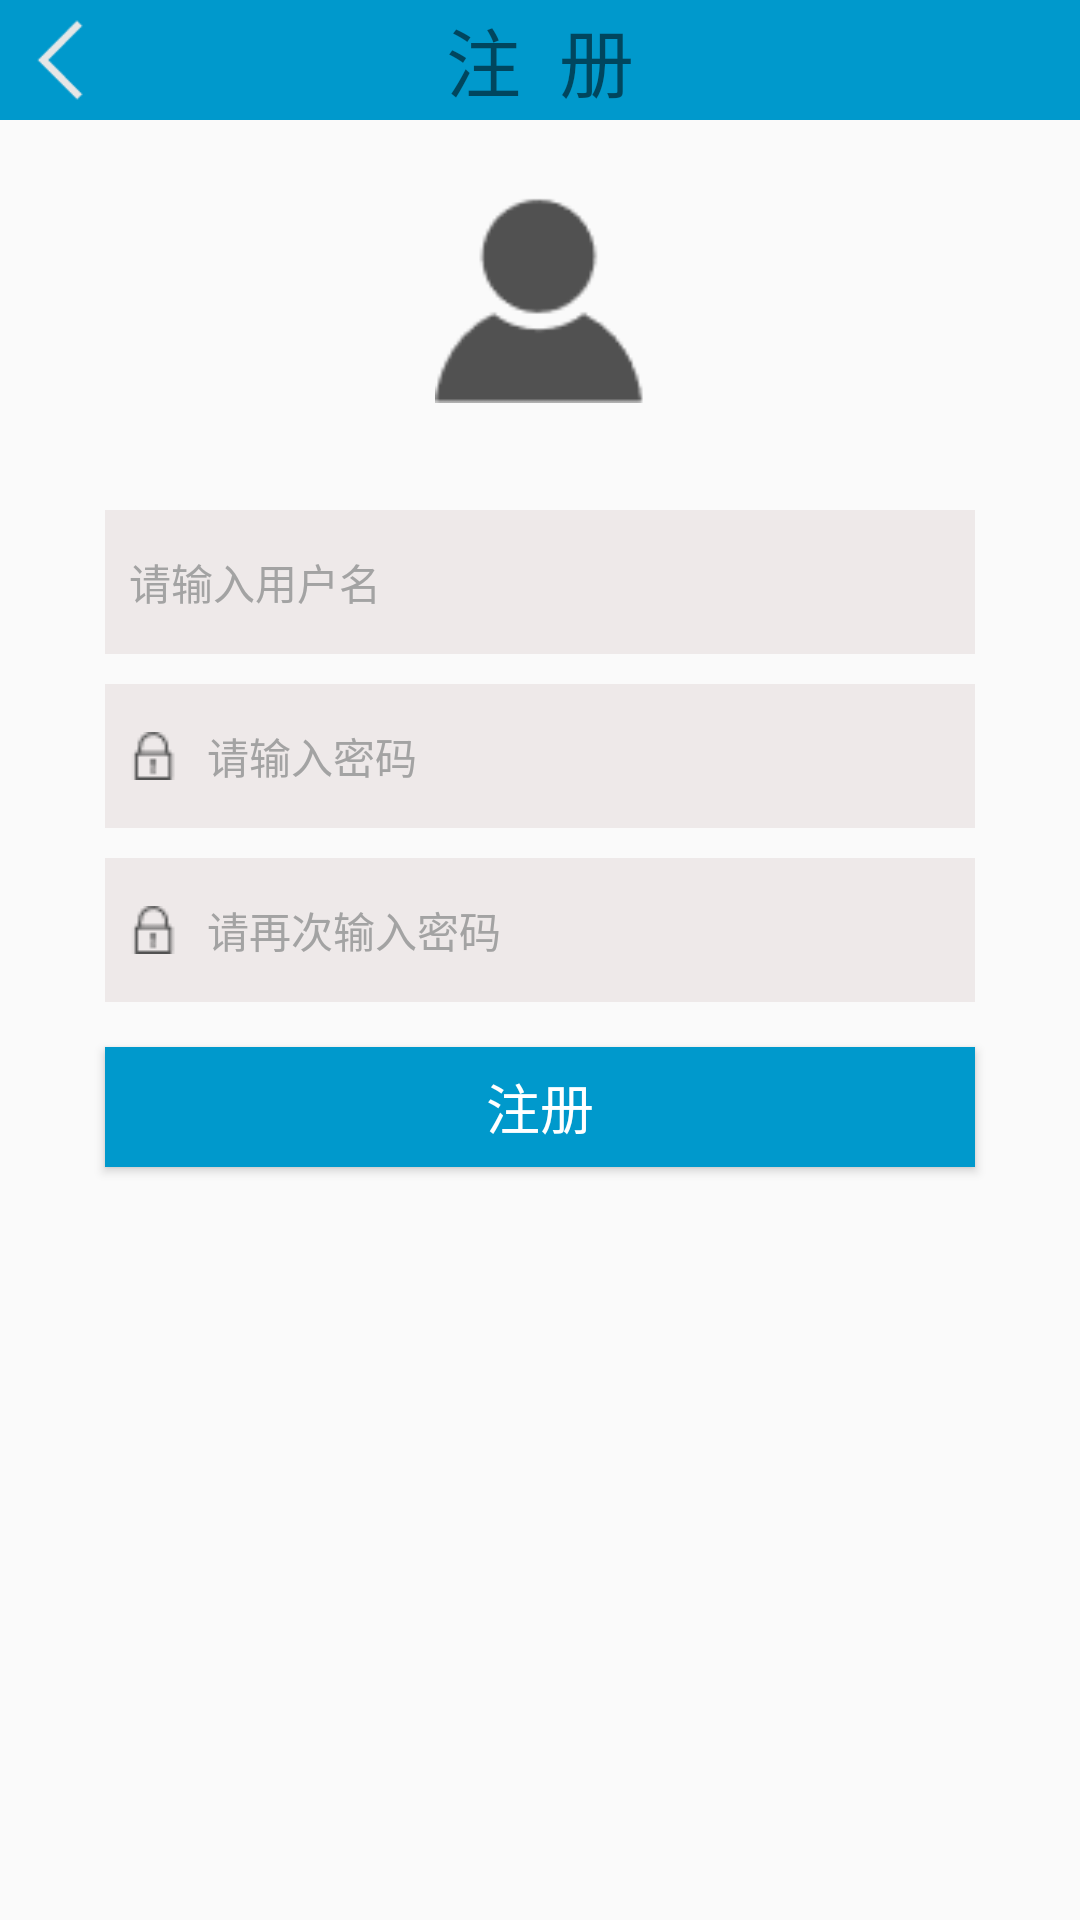

Screen size 1080*1920. Icon name, then its center in pixels as [x,y]:
back: [60,60]
